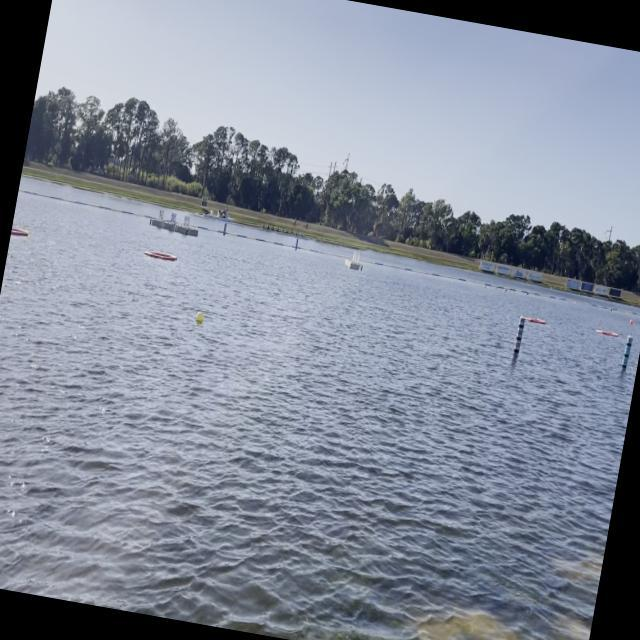buoy: (194, 310, 205, 322), (628, 319, 634, 325)
